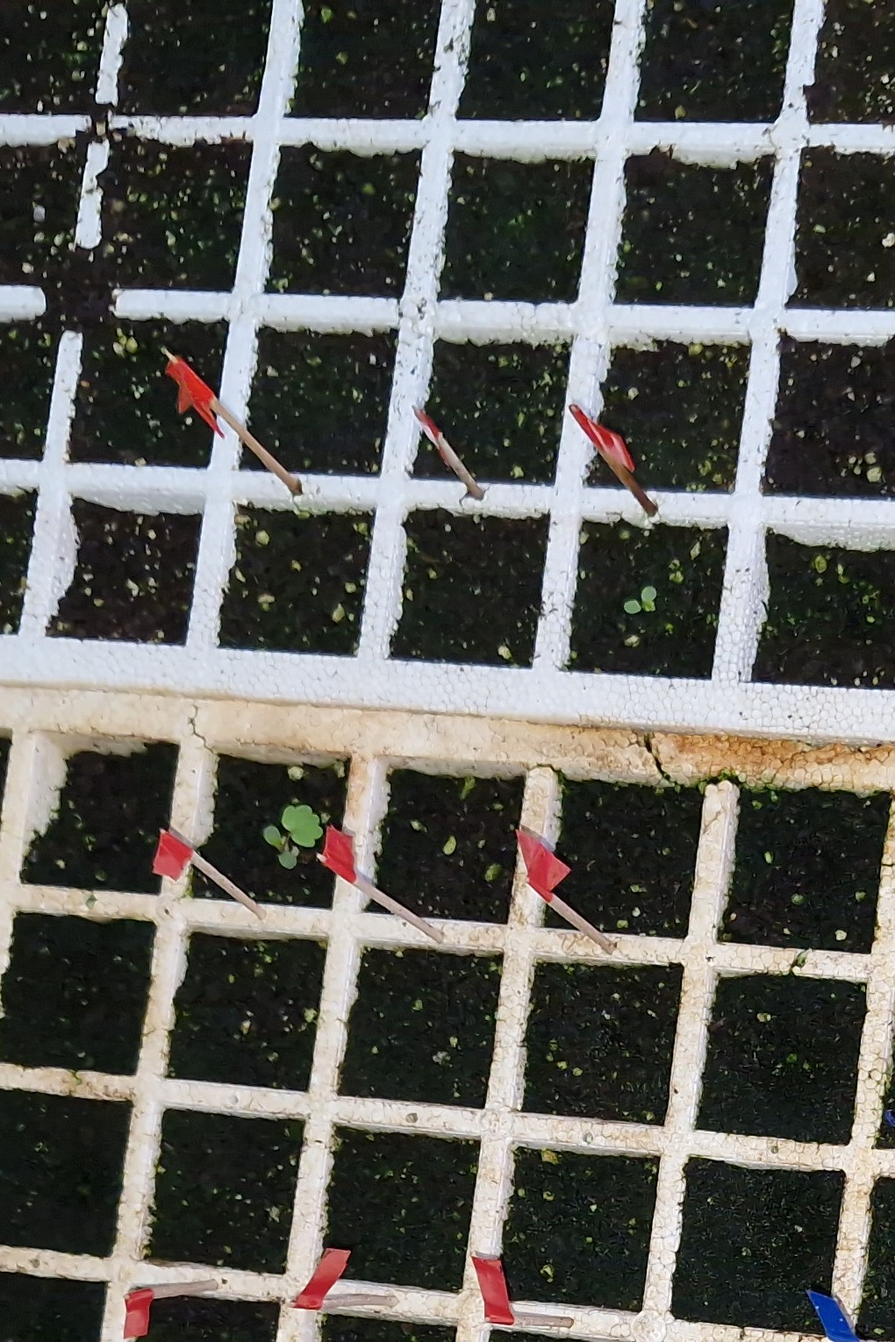Folha: (282, 805, 323, 847), (279, 850, 297, 869), (265, 827, 280, 845)
Germinacao: (265, 806, 324, 868)
